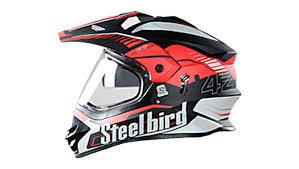helmet: (60, 12, 241, 157)
